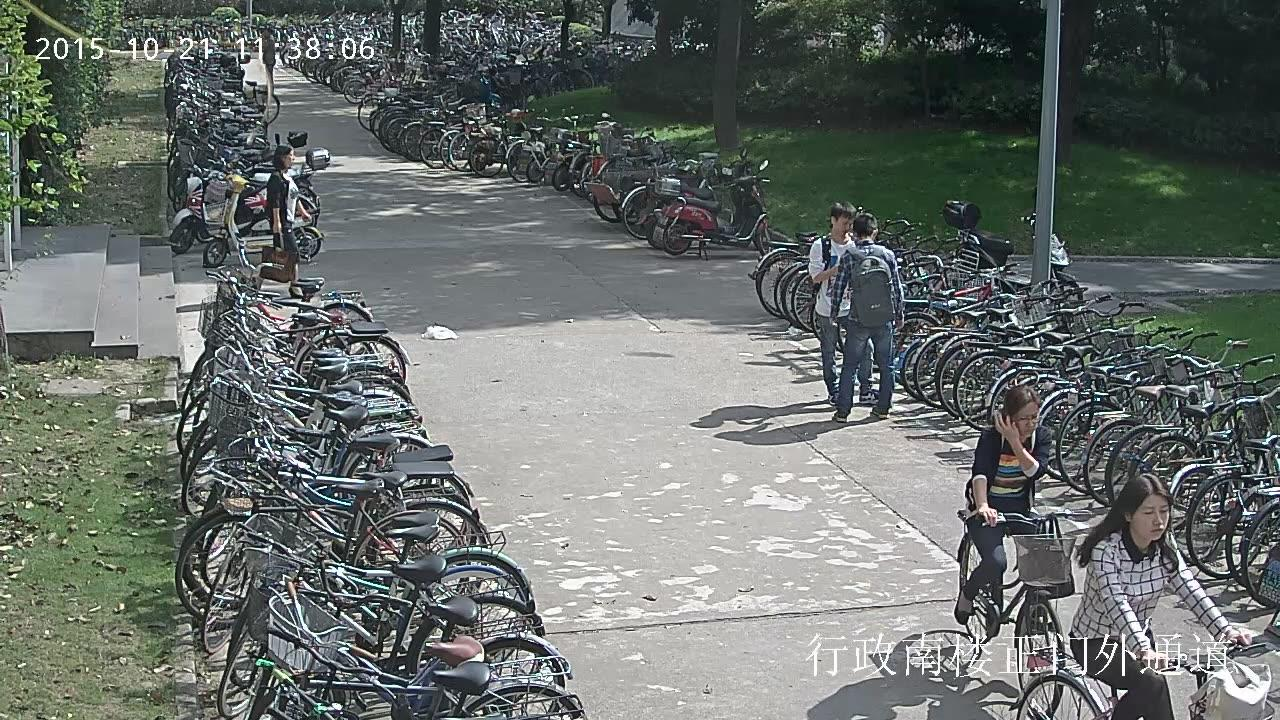person: (1013, 471, 1280, 720), (1069, 473, 1253, 720), (954, 386, 1095, 684), (954, 387, 1050, 625), (808, 202, 881, 407), (831, 212, 898, 424), (253, 143, 306, 298), (252, 27, 275, 86)
